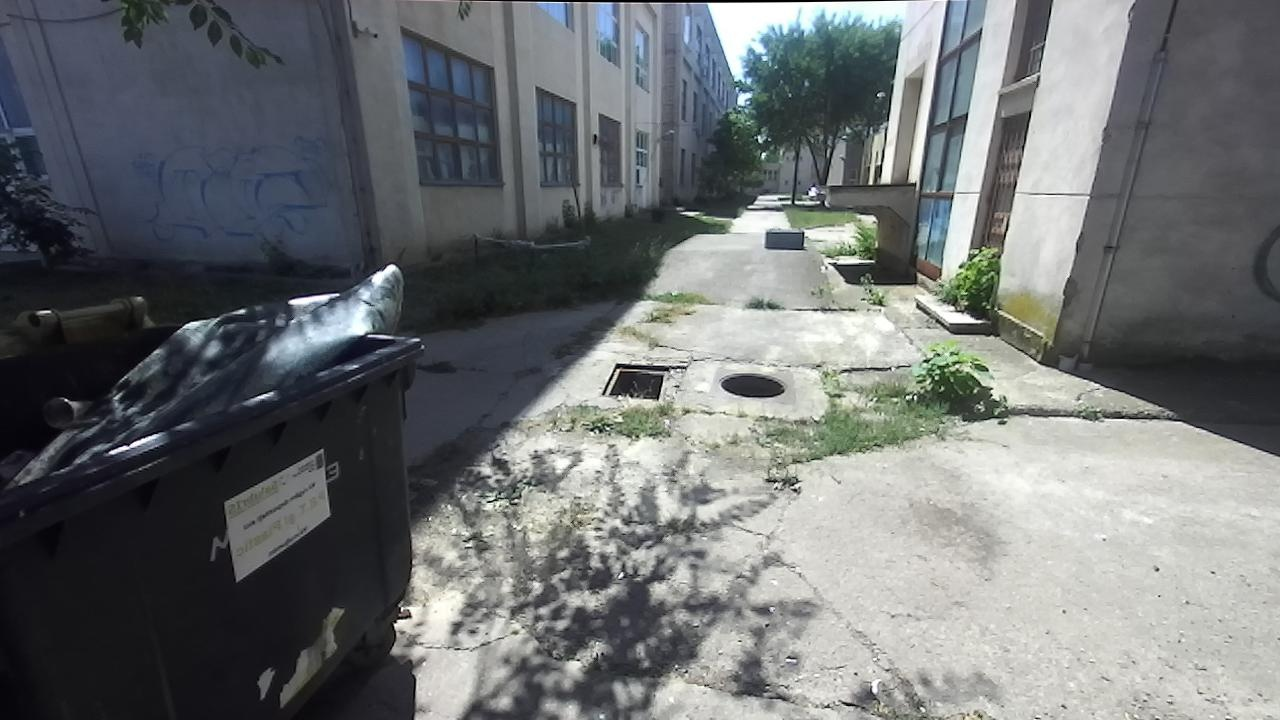drain: (592, 357, 677, 406), (711, 364, 791, 399)
